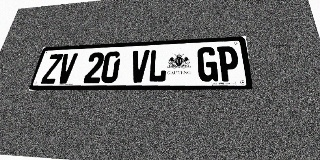0: (100, 51, 121, 83)
2: (83, 52, 105, 83)
G: (197, 47, 218, 82)
L: (147, 49, 167, 82)
P: (217, 46, 240, 81)
V: (55, 53, 78, 84), (129, 50, 150, 83)
Z: (40, 54, 63, 84)
